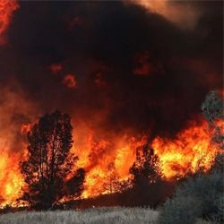fire: (1, 131, 220, 207)
smoke: (9, 1, 212, 116)
